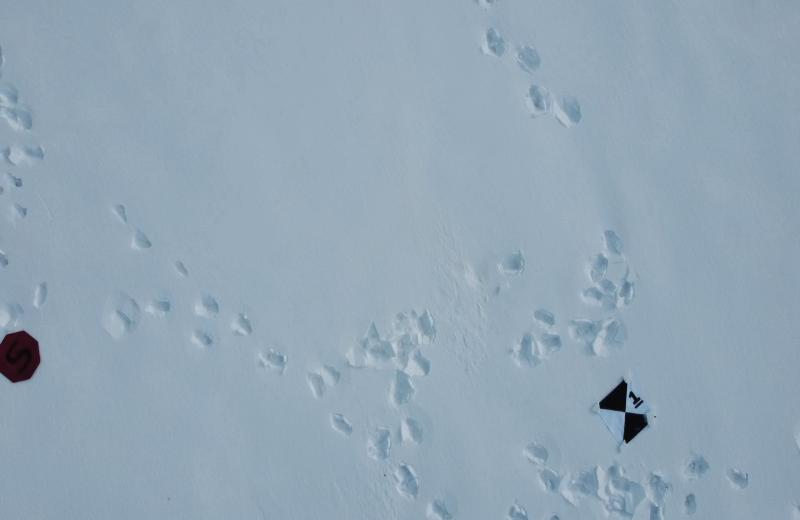Octagon: (0, 329, 44, 384)
